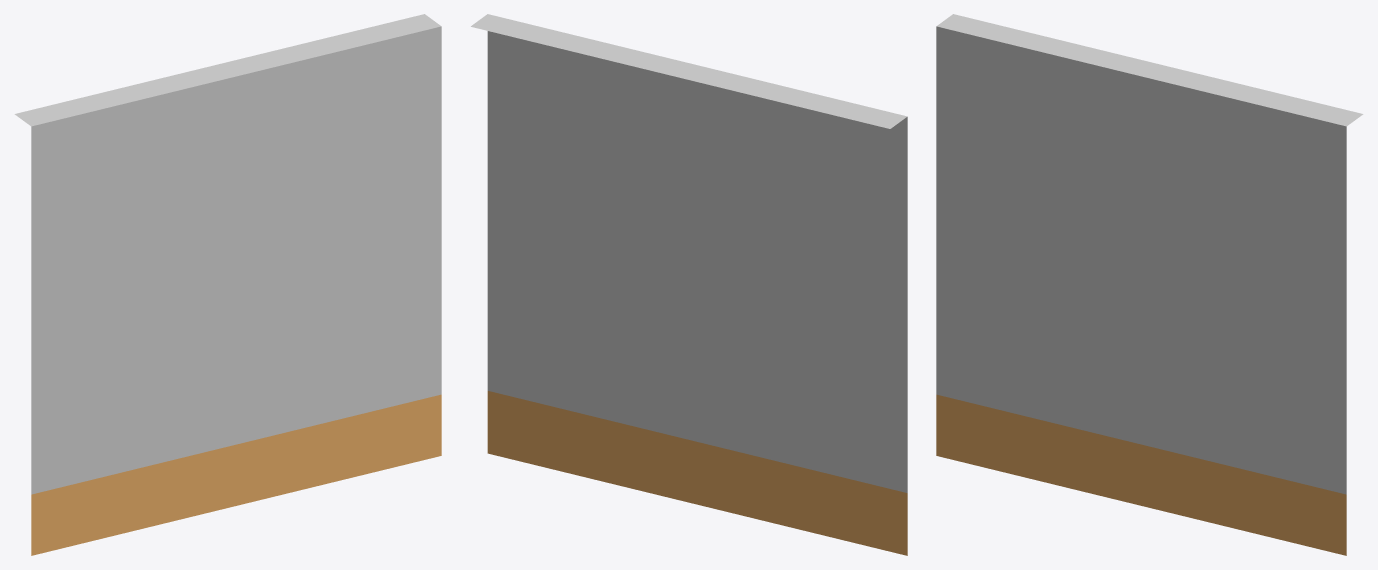
The model's file is M_Wall350White80-1.fbx.
3 renders of one model, left to right at view 1: azimuth 30°, elevation 25°; view 2: azimuth 150°, elevation 25°; view 3: azimuth 330°, elevation 25°, orthographic. The views are drawn at different scales.
Parts seen in each view (by area): view 1: M_Wall350White80-1; view 2: M_Wall350White80-1; view 3: M_Wall350White80-1.
Part boxes in pixels (<box>): M_Wall350White80-1: <box>14,14,441,555</box>; M_Wall350White80-1: <box>471,14,907,555</box>; M_Wall350White80-1: <box>936,14,1363,555</box>.
Bounding box in the file's own units: 350 × 25 × 350.
